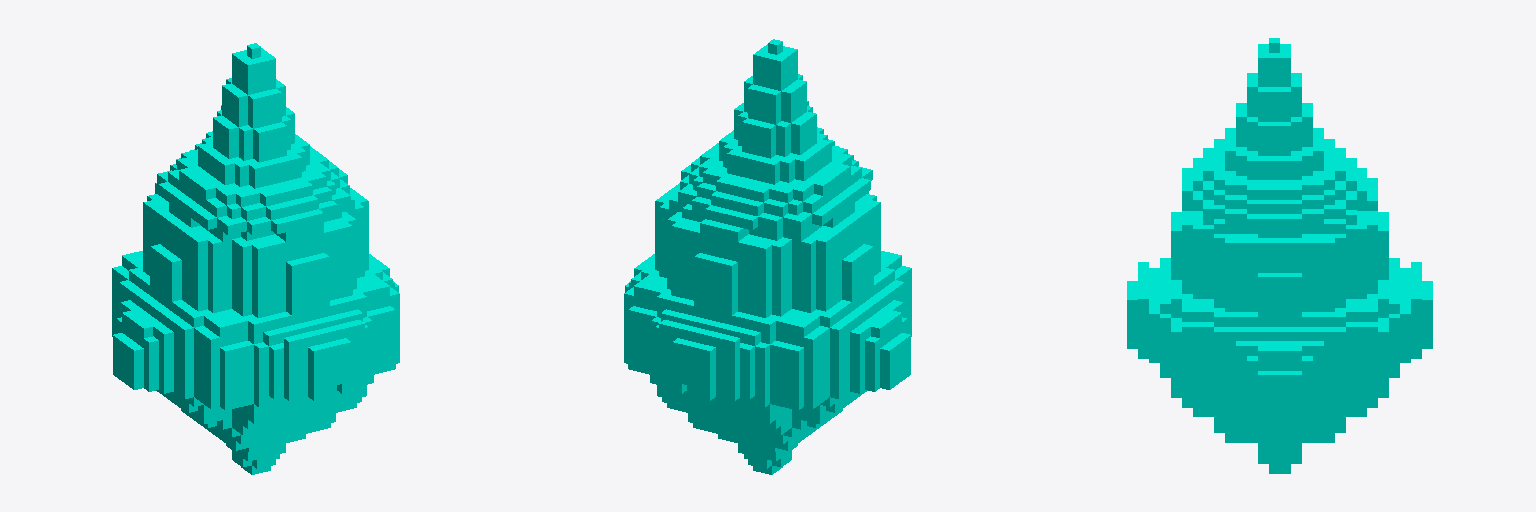
3 renders of one model, left to right at view 1: azimuth 30°, elevation 25°; view 2: azimuth 150°, elevation 25°; view 3: azimuth 270°, elevation 25°, orthographic.
Parts seen in each view (by area): view 1: object 1; view 2: object 1; view 3: object 1.
Part boxes in pixels (x1,y1,x2,y2): object 1: (112, 43, 399, 474); object 1: (624, 39, 911, 474); object 1: (1127, 38, 1432, 473).
Size of the model in its own units: 2.8 by 4.3 by 2.8.
1 materials, 1 textured.